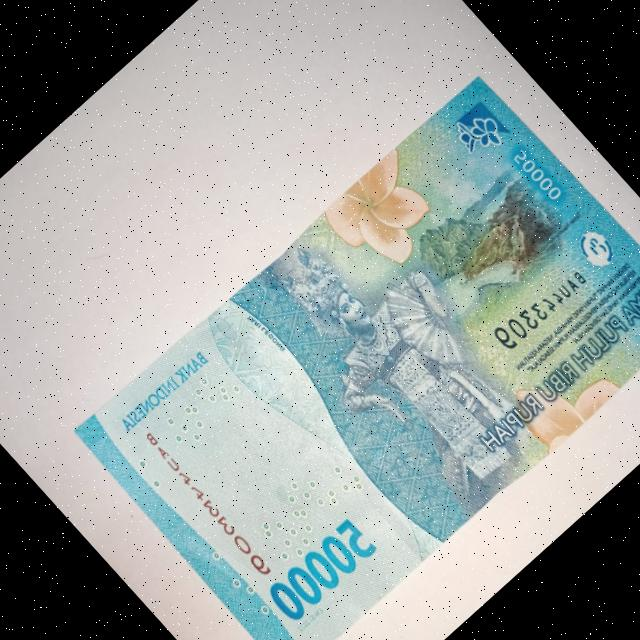50K: (62, 57, 640, 640)
